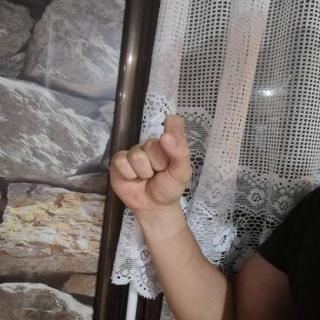FAA: (99, 109, 199, 213)
